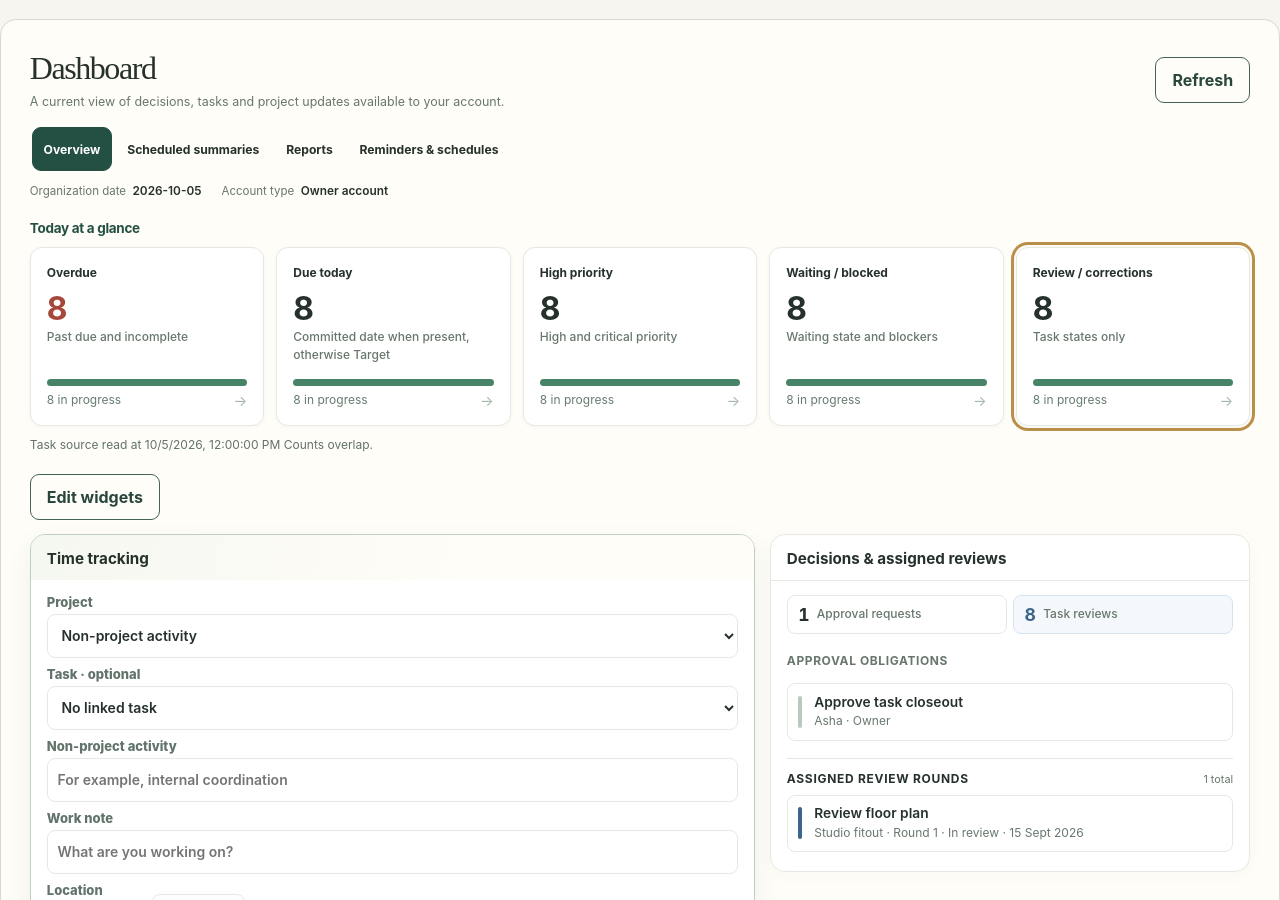
Test case: DashboardWorkspace › opens every Review / corrections source row in a contextual panel without navigating
This screenshot has width=1280, height=900.
Expected: the 5th text "8" is shown, x1=1033 y1=289 x2=1052 y2=328
Click the button "Review / corrections 8 Task states only 8 in progress →": (1133,337) x1=1016 y1=247 x2=1250 y2=426
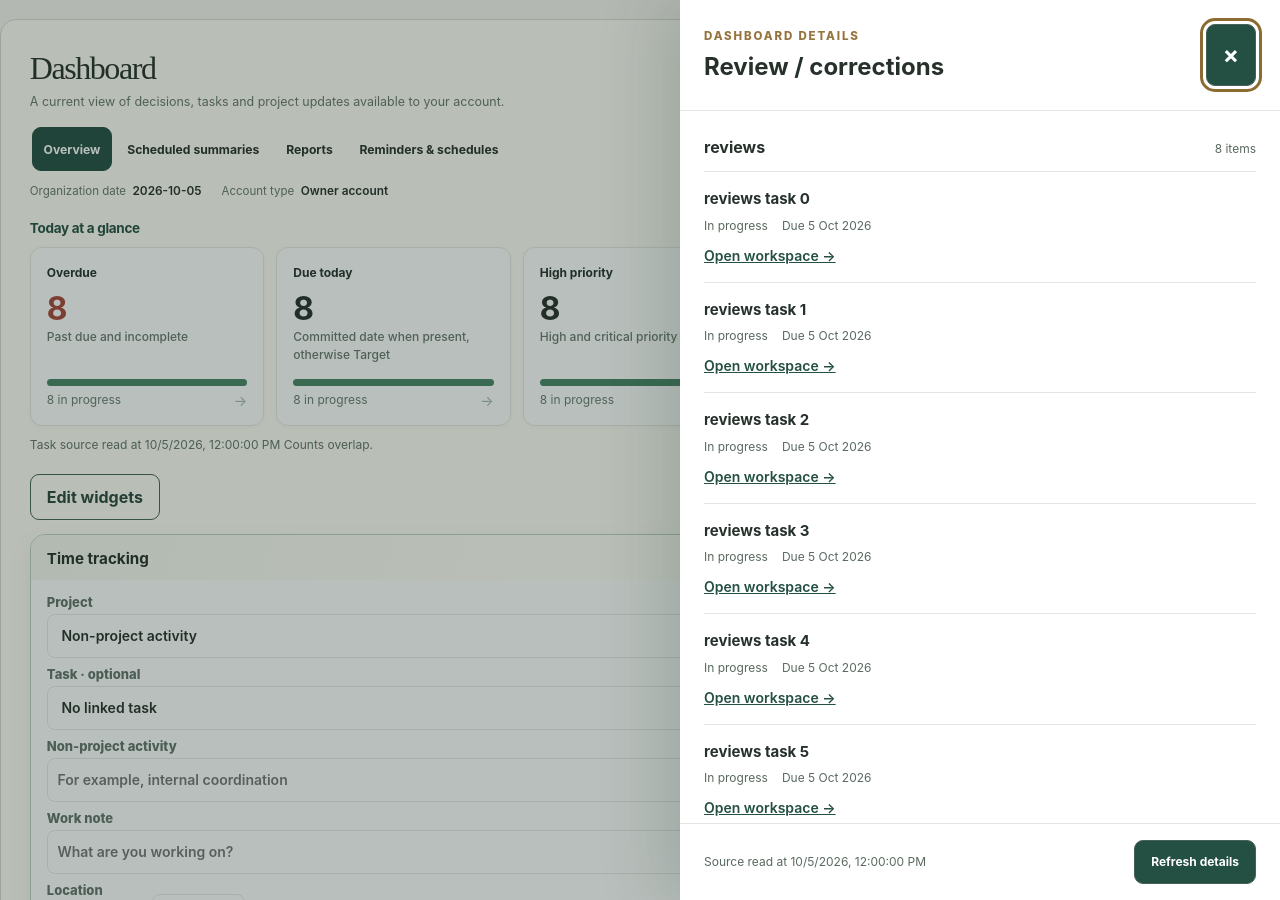
Click the button named "Close dashboard details": (1231,55) x1=1206 y1=24 x2=1256 y2=86
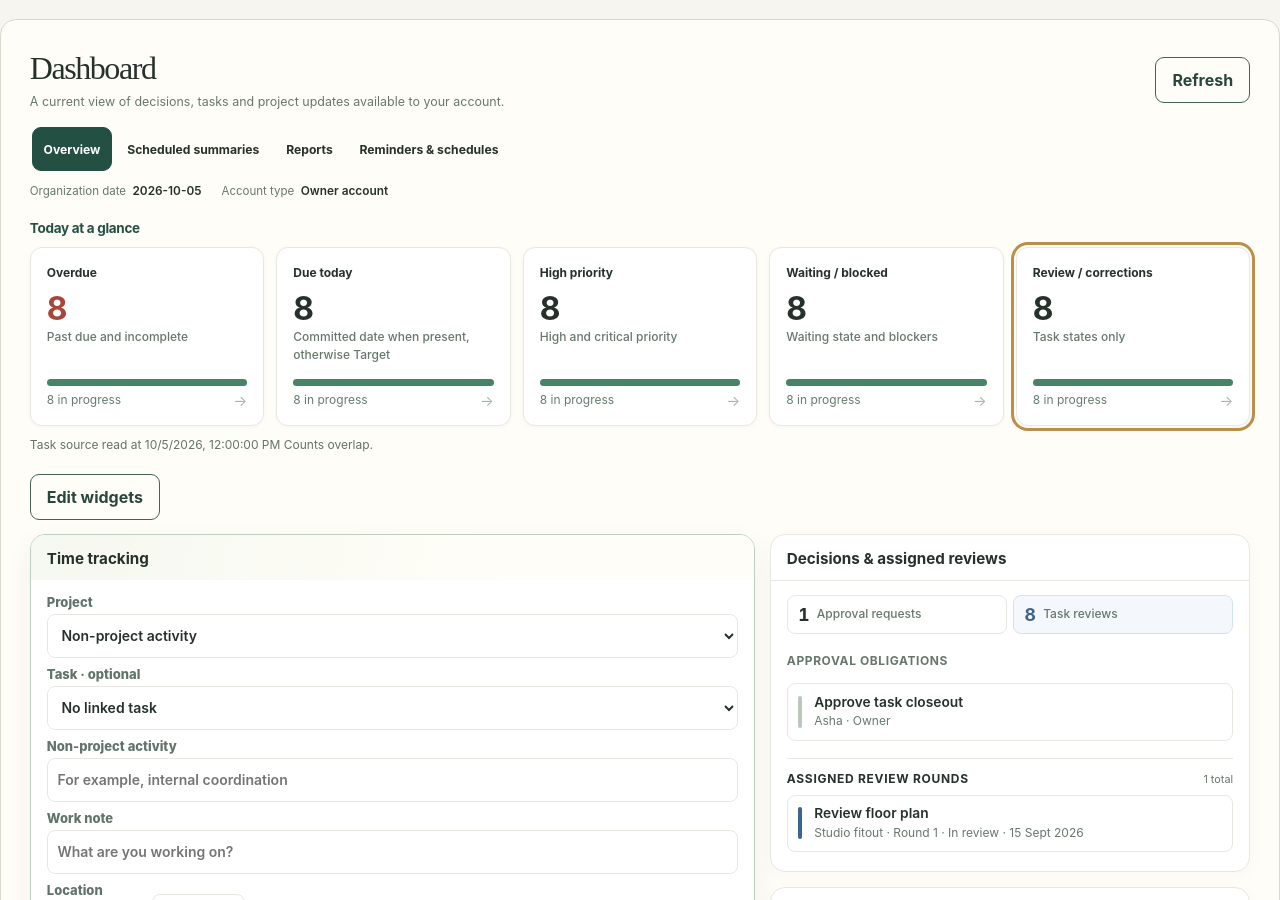
Expected: the heading "Dashboard" is shown, x1=30 y1=50 x2=156 y2=86
Now the dialog is gone
